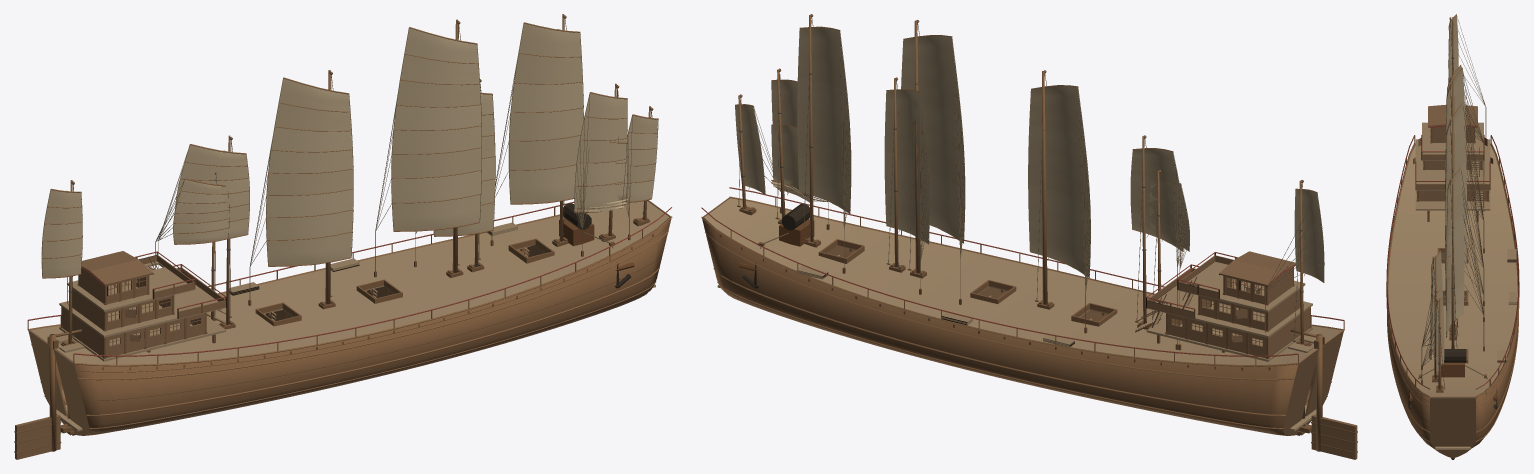
The model's file is baochuan-full.glb.
The picture shows the model from 3 angles, left to right: view 1: azimuth 30°, elevation 25°; view 2: azimuth 150°, elevation 25°; view 3: azimuth 270°, elevation 25°; orthographic projection. The views are drawn at different scales.
Visible parts, largest first — view 1: Starboard planked shell_WEB, Battened sail panels.004_WEB, Battened sail panels.003_WEB, Battened sail panels.005_WEB, Battened sail panels.007_WEB, Battened sail panels.002_WEB, Battened sail panels_WEB, Battened sail panels.001_WEB, Battened sail panels.019_WEB, Battened sail panels.006_WEB, Cambered upper shelter roof_WEB, Walkable roof_WEB (+25 smaller); view 2: Port planked shell_WEB, Battened sail panels.003_WEB, Battened sail panels.005_WEB, Battened sail panels.004_WEB, Battened sail panels.006_WEB, Battened sail panels.002_WEB, Battened sail panels_WEB, Battened sail panels.019_WEB, Cambered upper shelter roof_WEB, Battened sail panels.008_WEB, Walkable roof_WEB, Main deck plank.028_WEB (+28 smaller); view 3: Battened sail panels.005_WEB, Starboard planked shell_WEB, Port planked shell_WEB, Battened sail panels.004_WEB, Bow closure.002_WEB, Bow closure_WEB, Walkable roof_WEB, Main deck plank.007_WEB, Main deck plank.018_WEB, Main deck plank.019_WEB, Main deck plank.010_WEB, Main deck plank.028_WEB (+55 smaller).
Part boxes in pixels (bbox=[...]): Starboard planked shell_WEB: bbox=[74, 217, 671, 435]; Battened sail panels.004_WEB: bbox=[391, 28, 481, 230]; Battened sail panels.003_WEB: bbox=[266, 78, 353, 265]; Battened sail panels.005_WEB: bbox=[508, 23, 583, 203]; Battened sail panels.007_WEB: bbox=[574, 93, 627, 210]; Battened sail panels.002_WEB: bbox=[175, 145, 249, 237]; Battened sail panels_WEB: bbox=[41, 190, 82, 277]; Battened sail panels.001_WEB: bbox=[173, 179, 229, 243]; Battened sail panels.019_WEB: bbox=[626, 115, 657, 201]; Battened sail panels.006_WEB: bbox=[433, 94, 494, 235]; Cambered upper shelter roof_WEB: bbox=[81, 251, 153, 285]; Walkable roof_WEB: bbox=[59, 291, 212, 337]; Port planked shell_WEB: bbox=[702, 217, 1298, 435]; Battened sail panels.003_WEB: bbox=[1028, 86, 1090, 277]; Battened sail panels.005_WEB: bbox=[797, 27, 850, 213]; Battened sail panels.004_WEB: bbox=[901, 36, 964, 242]; Battened sail panels.006_WEB: bbox=[884, 90, 929, 243]; Battened sail panels.002_WEB: bbox=[1130, 149, 1183, 250]; Battened sail panels_WEB: bbox=[1294, 189, 1323, 281]; Battened sail panels.019_WEB: bbox=[735, 105, 765, 194]; Cambered upper shelter roof_WEB: bbox=[1219, 251, 1295, 286]; Battened sail panels.008_WEB: bbox=[771, 125, 808, 201]; Walkable roof_WEB: bbox=[1160, 292, 1312, 337]; Main deck plank.028_WEB: bbox=[906, 254, 998, 313]; Battened sail panels.005_WEB: bbox=[1446, 168, 1464, 335]; Starboard planked shell_WEB: bbox=[1387, 144, 1437, 451]; Port planked shell_WEB: bbox=[1472, 144, 1518, 447]; Battened sail panels.004_WEB: bbox=[1445, 103, 1466, 288]; Bow closure.002_WEB: bbox=[1430, 396, 1452, 458]; Bow closure_WEB: bbox=[1453, 396, 1475, 458]; Walkable roof_WEB: bbox=[1415, 139, 1490, 183]; Main deck plank.007_WEB: bbox=[1395, 214, 1510, 223]; Main deck plank.018_WEB: bbox=[1388, 273, 1517, 281]; Main deck plank.019_WEB: bbox=[1388, 281, 1517, 289]; Main deck plank.010_WEB: bbox=[1391, 240, 1514, 248]; Main deck plank.028_WEB: bbox=[1390, 312, 1515, 320].
Bounding box in the file's own units: 64.81 × 31.94 × 13.95.
Materials: 23 (10 with a texture image).
